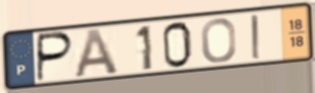0: (160, 20, 194, 69)
1: (134, 23, 155, 71)
A: (72, 26, 121, 80)
I: (249, 13, 263, 61)
O: (199, 16, 238, 64)
P: (35, 31, 76, 84)
